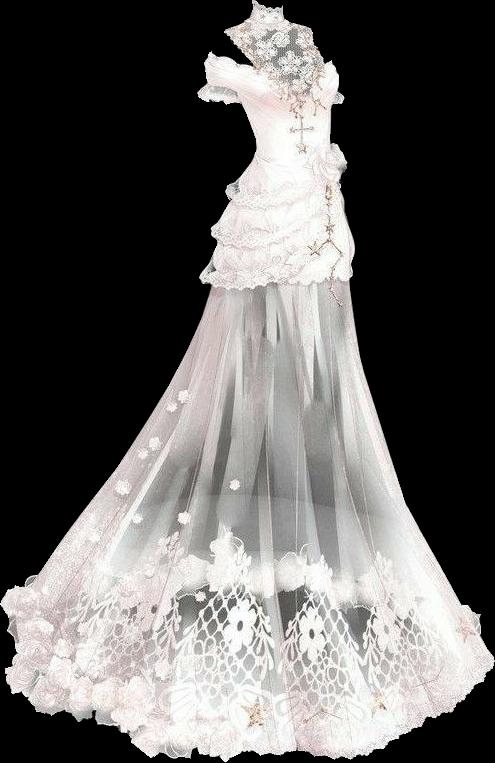Bodice: (197, 0, 344, 175)
Hemline: (0, 588, 494, 762), (197, 237, 355, 288), (207, 190, 341, 245), (223, 169, 330, 212)
Neckline: (220, 28, 321, 120), (207, 80, 337, 149), (249, 0, 284, 16)
Skirt: (1, 159, 494, 761)
Waistline: (251, 155, 326, 184)
